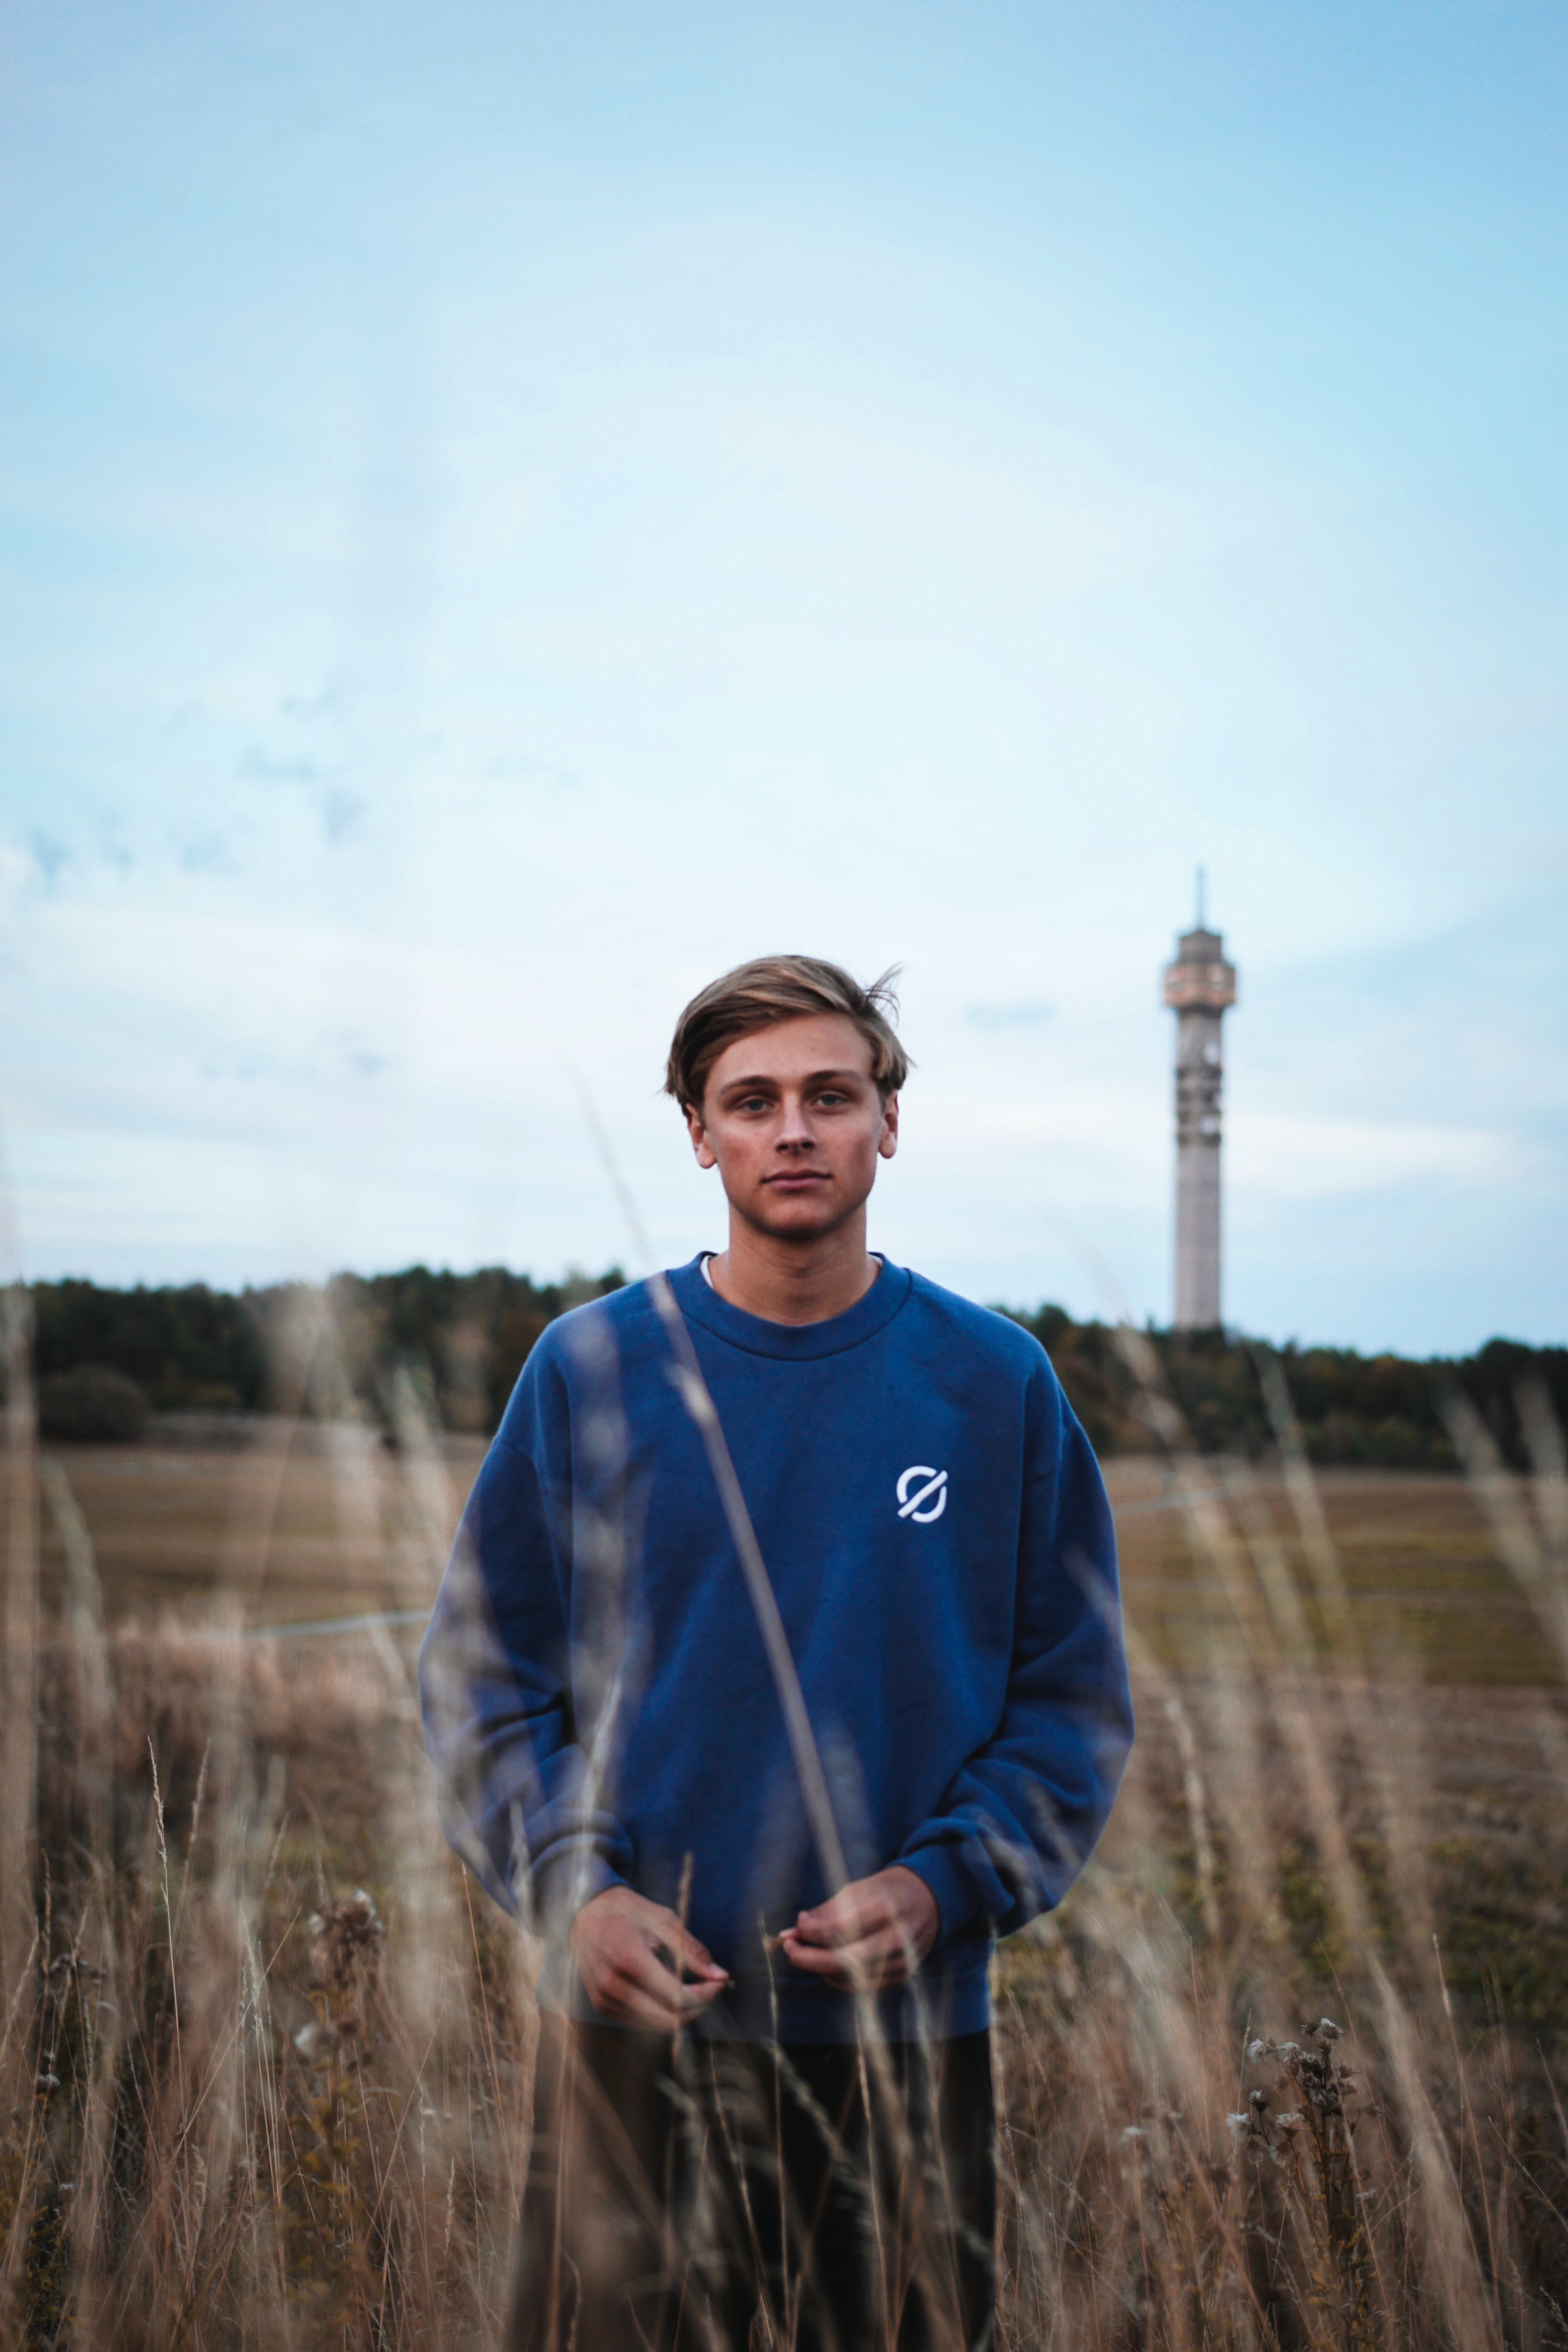person: (423, 943, 1152, 2352)
